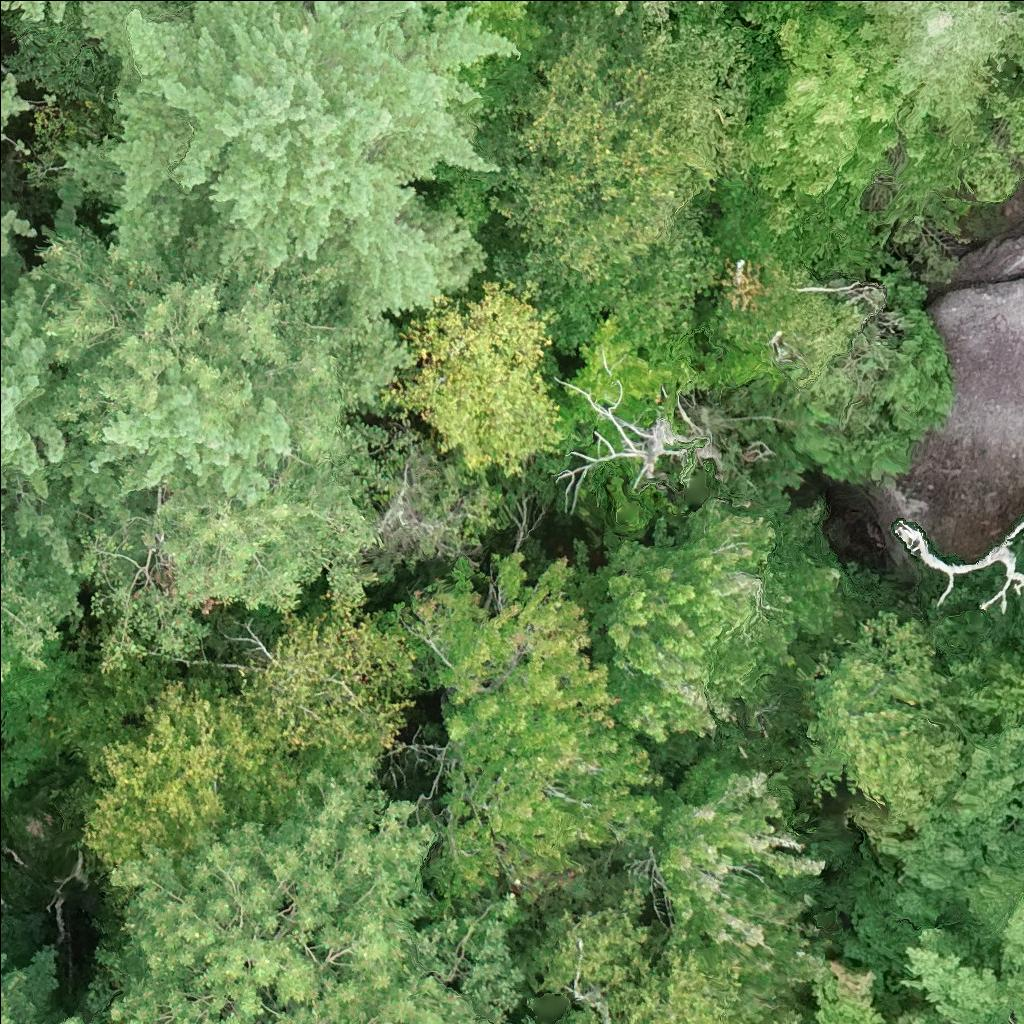crown: (26, 232, 410, 674), (69, 0, 513, 324), (111, 759, 525, 1023), (481, 0, 751, 352), (408, 551, 659, 898), (559, 504, 839, 742), (854, 639, 1023, 928), (661, 754, 830, 1023), (87, 681, 301, 866), (0, 274, 122, 570), (805, 611, 961, 831), (383, 284, 560, 473), (734, 18, 909, 197), (236, 599, 437, 753), (526, 889, 738, 1023), (93, 356, 289, 496), (842, 881, 1023, 1023), (837, 0, 1023, 131), (555, 388, 720, 493), (0, 478, 76, 669), (896, 521, 1023, 606), (964, 863, 1023, 972), (812, 959, 891, 1023), (0, 954, 35, 1023), (0, 67, 26, 136), (0, 206, 33, 256), (0, 0, 65, 21), (891, 1005, 951, 1023), (645, 0, 662, 27), (1011, 993, 1023, 1023), (767, 1013, 801, 1023), (0, 653, 10, 686), (619, 0, 631, 14), (62, 1016, 82, 1023), (698, 0, 708, 2), (4, 1022, 16, 1023)
